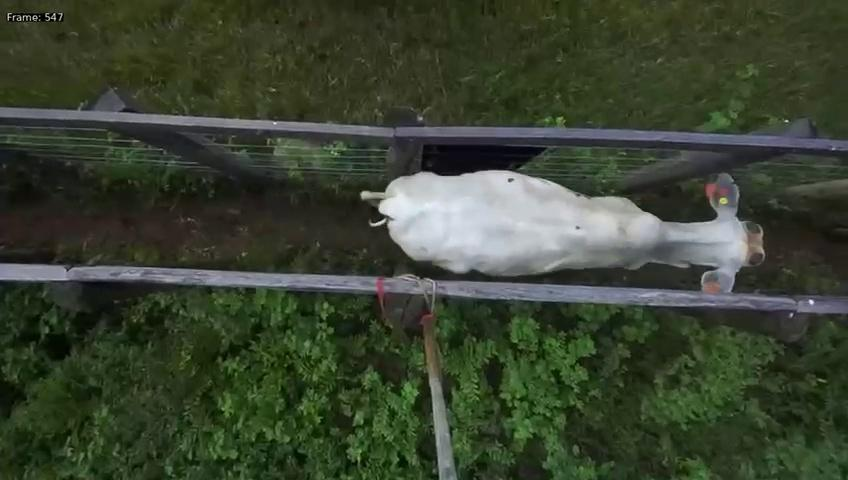cattle: (360, 156, 766, 292)
